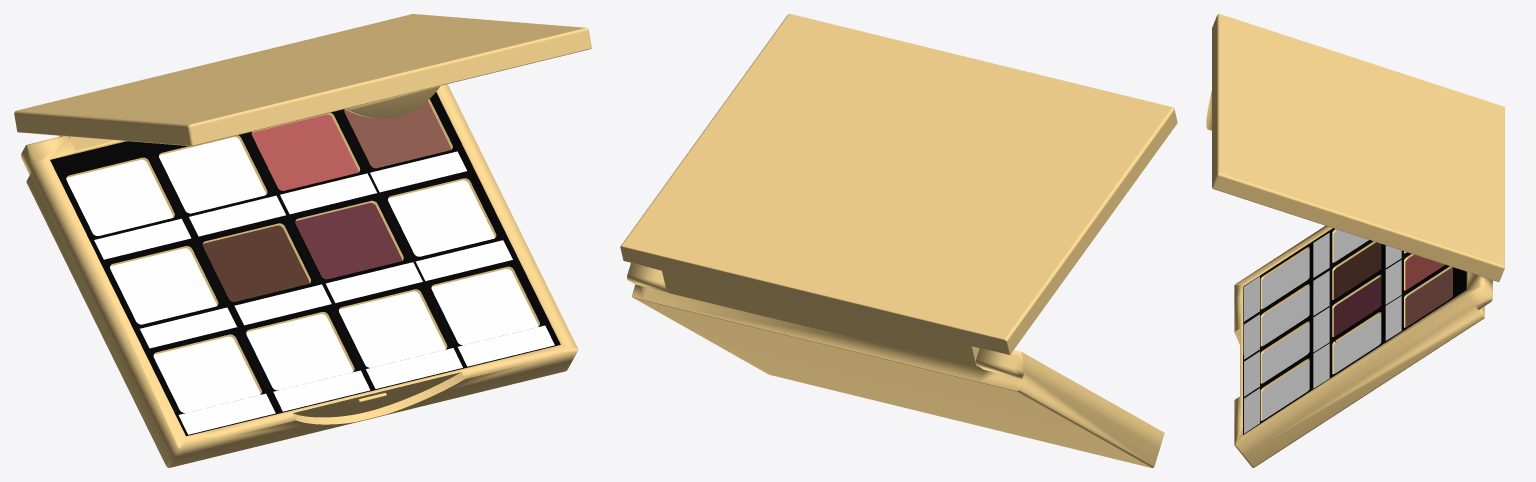
Rendered from assetEyeshadowPalette.glb.
The picture shows the model from 3 angles, left to right: view 1: azimuth 30°, elevation 25°; view 2: azimuth 150°, elevation 25°; view 3: azimuth 270°, elevation 25°; orthographic projection. The views are drawn at different scales.
Visible parts, largest first — view 1: Cube.026; view 2: Cube.026; view 3: Cube.026.
Boxes of the visible parts, x1=… form: Cube.026: x1=14, y1=14, x2=591, y2=467; Cube.026: x1=620, y1=14, x2=1177, y2=467; Cube.026: x1=1206, y1=14, x2=1504, y2=467.
Size of the model in its own units: 6.61 by 5.65 by 5.48.
28 materials, 12 textured.
